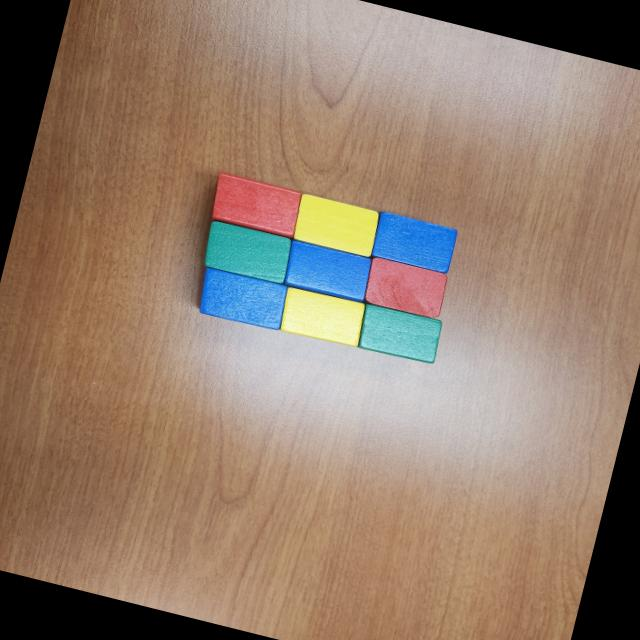blue: (192, 262, 292, 334), (280, 237, 376, 304), (366, 210, 460, 276)
green: (197, 216, 296, 286), (354, 301, 446, 366)
red: (207, 171, 305, 239), (362, 256, 448, 319)
yellow: (288, 191, 382, 258), (276, 284, 368, 349)
